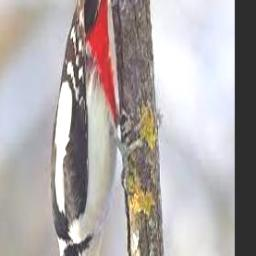Woodpecker: (50, 0, 137, 256)
